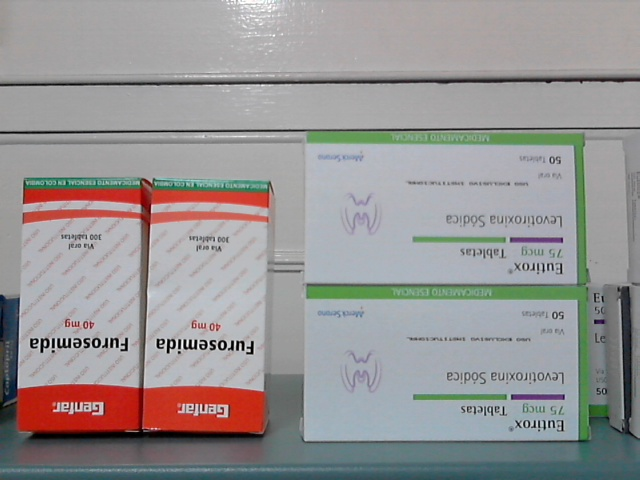Genfar: (17, 178, 139, 431), (144, 181, 266, 433)
